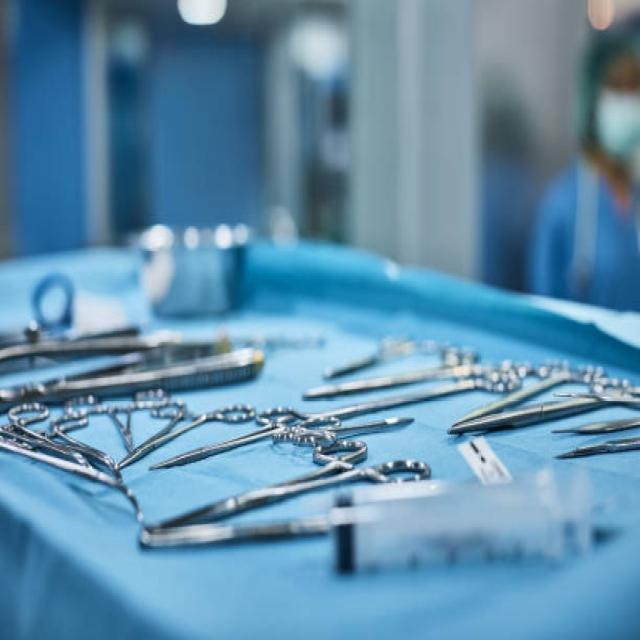tools_table: (0, 206, 640, 640)
